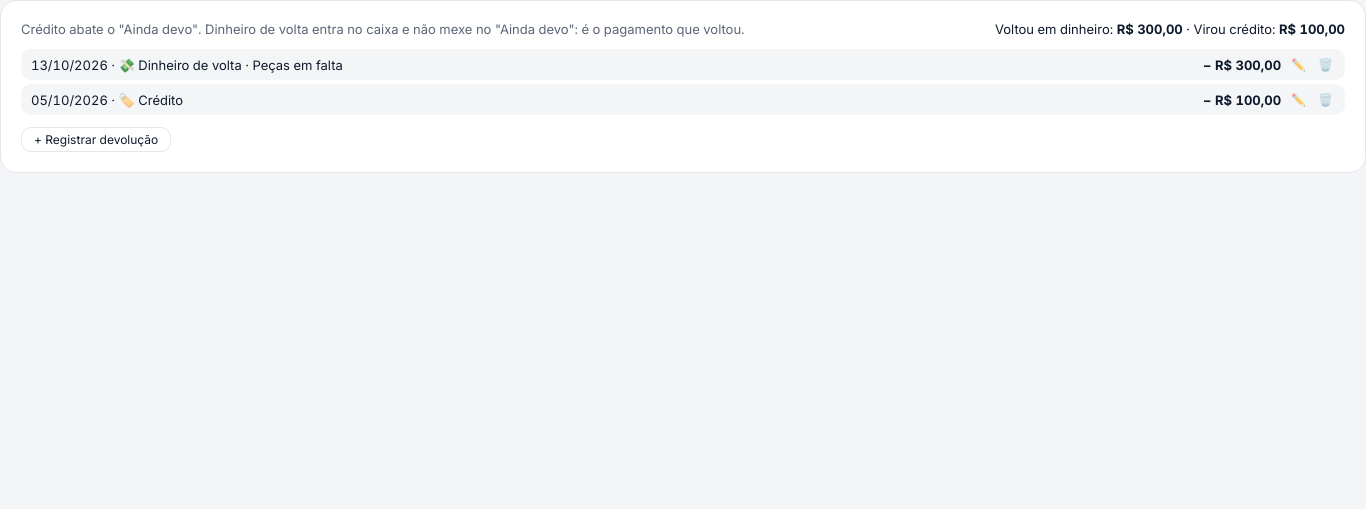
Scenario: Devoluções ao fornecedor › o padrão é crédito, como sempre funcionou
Click the button "+ Registrar devolução".
click(96, 140)  # box [21,127,171,152]
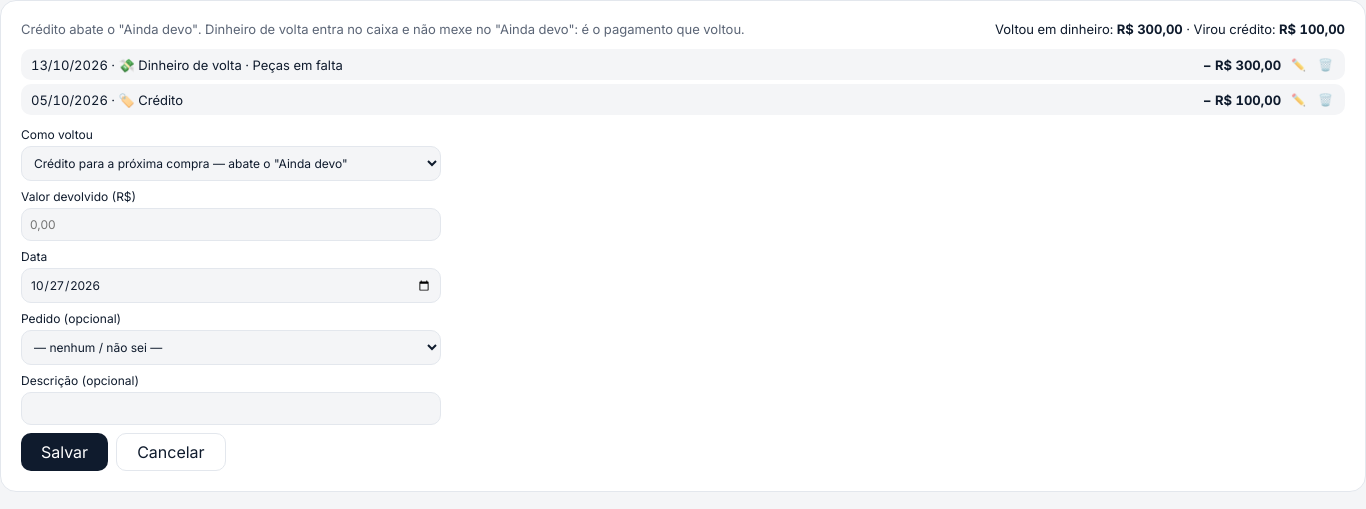
Expected: the dropdown labelled "Como voltou" shows "Crédito para a próxima compra — abate o \"Ainda devo\"", [21,146,441,181]
